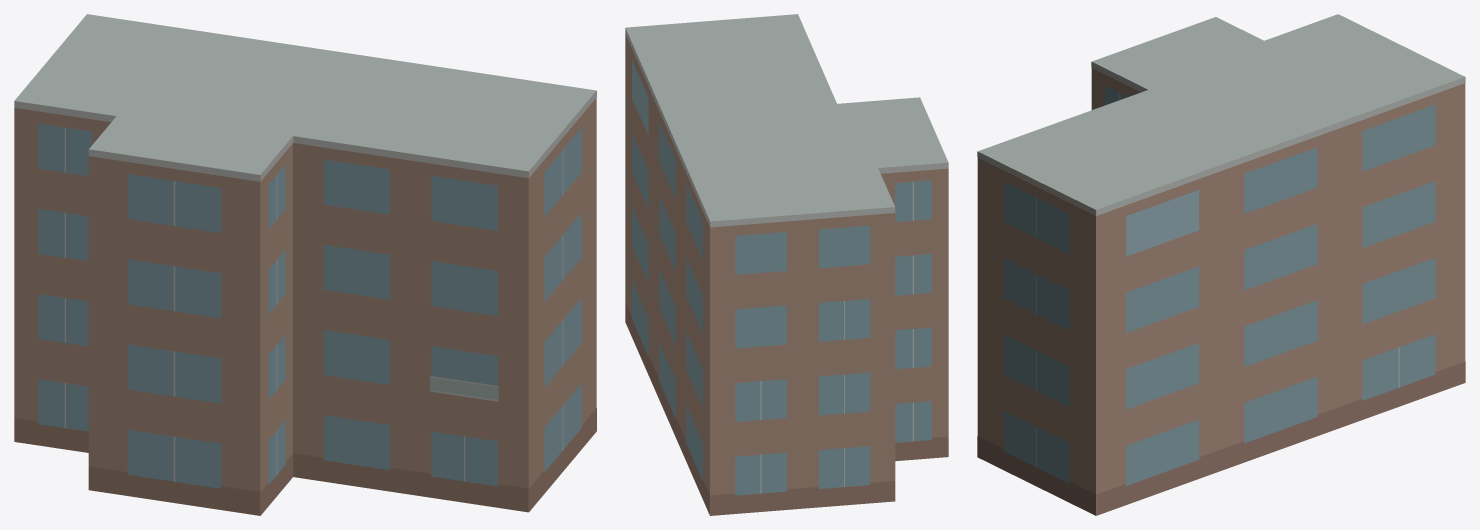
File: residential-8e3d722f-04f4-4453-8153-a810803c96c7.glb
3 renders of one model, left to right at view 1: azimuth 30°, elevation 25°; view 2: azimuth 150°, elevation 25°; view 3: azimuth 270°, elevation 25°, orthographic. The views are drawn at different scales.
Parts seen in each view (by area): view 1: residential-8e3d722f-04f4-4453-8153-a810803c96c7.tmp; view 2: residential-8e3d722f-04f4-4453-8153-a810803c96c7.tmp; view 3: residential-8e3d722f-04f4-4453-8153-a810803c96c7.tmp.
Part boxes in pixels (<box>): residential-8e3d722f-04f4-4453-8153-a810803c96c7.tmp: <box>14,14,596,515</box>; residential-8e3d722f-04f4-4453-8153-a810803c96c7.tmp: <box>625,14,948,515</box>; residential-8e3d722f-04f4-4453-8153-a810803c96c7.tmp: <box>977,14,1465,515</box>.
Size of the model in its own units: 16.77 by 12.2 by 17.64.
